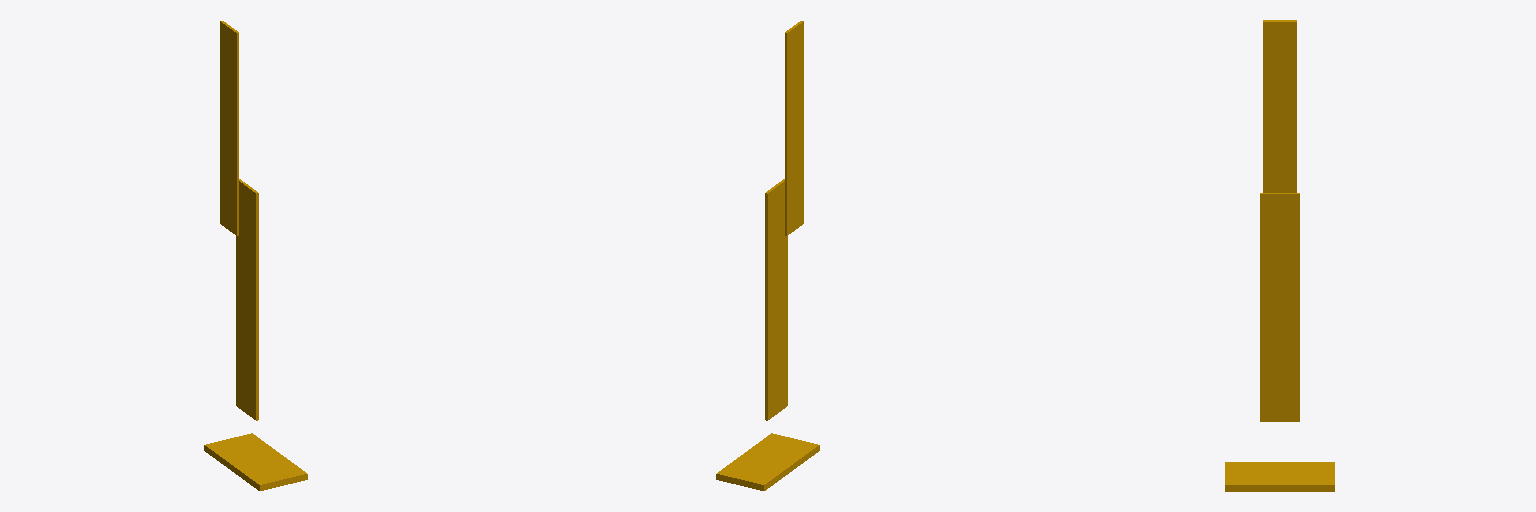
robot.urdf — 134threedof:
<?xml version="1.0"?>

<robot name="134threedof">

  <!-- ******************************************************** -->
  <!-- ******************* Kinematic Chain ******************** -->
  <!-- ******************************************************** -->
  <!-- Note the 'origin' tag in the joints defines the shift and
       reorientation, i.e. the transform.  For moving joints, this
       happens before the continuous joint rotates around 'axis'. -->

  <!-- ALL LENGTHS IN M -->

  <!-- World can't take a visual element (at least in Gazebo). -->
  <link name="world"/>

  <joint name="placement" type="fixed">
    <parent link="world"/>
    <child  link="baseplate"/>
    <origin xyz="0 0.0394 0" rpy="0 0 0"/>			<!-- WHERE IS THE BASE -->
  </joint>

  <!-- BASE PLATE: Shift across the base plate to the base motor. --> 
  <link name="baseplate">
    <visual>
      <origin xyz="0.0 0.0 0.0" rpy="0 0 1.5708"/>
      <geometry>
	<box size="0.2 0.1 0.0125"/>
      </geometry>
      <material name="wood"/>
    </visual>
  </link>

  <joint name="baseplate" type="fixed">
    <parent link="baseplate"/>
    <child  link="basemotor"/>
    <origin xyz="0 0 0.0125" rpy="0 0 -1.5708"/>
  </joint>

  <!-- BASE MOTOR: Thickness: X5 = 31.1mm, X8 = 45.1mm -->
  <link name="basemotor">
    <visual>
      <geometry>
        <mesh filename="package://basic134/meshes/X5.stl"
	      scale="0.001 0.001 0.001"/>
      </geometry>
      <material name="hebi"/>
    </visual>
  </link>

  <joint name="base" type="continuous">
    <parent link="basemotor"/>
    <child  link="lbracket"/>
    <origin xyz="0 0 0.0311" rpy="0 0 0"/>
    <axis   xyz="0 0 1"/>
  </joint>

  <!-- L BRACKET: Shift and rotate across the L bracket. -->
  <link name="lbracket">
    <!-- Add a visual element -->
  </link>

  <joint name="lbracket" type="fixed">
    <parent link="lbracket"/>
    <child  link="shouldermotor"/>
    <origin xyz="0 0.02999 0.09585" rpy="1.5708 -1.5708 0.0"/>	  <!-- L BRACKET DIMENIONS -->
  </joint>

  <!-- SHOULDER MOTOR: Thickness: X5 = 31.1mm, X8 = 45.1mm -->
  <link name="shouldermotor">
    <visual>
      <geometry>
        <mesh filename="package://basic134/meshes/X8.stl"
	      scale="0.001 0.001 0.001"/>
      </geometry>
      <material name="hebi"/>
    </visual>
  </link>

  <joint name="shoulder" type="continuous">
    <parent link="shouldermotor"/>
    <child  link="upperarm"/>
    <origin xyz="0 0 0.0451" rpy="0 0 -1.5708"/>
    <axis   xyz="0 0 1"/>
  </joint>

  <!-- UPPER ARM: Shift across the upper arm -->
  <link name="upperarm">
    <visual>
      <origin xyz="0.0 0.19 0.00285" rpy="0 0 1.5708"/>
      <geometry>
	<box size="0.454 0.074 0.00570"/>
      </geometry>
      <material name="wood"/>
    </visual>
    <!-- Add a visual element -->
  </link>

  <joint name="upperarm" type="fixed">
    <parent link="upperarm"/>
    <child  link="elbowmotor"/>
    <origin xyz="0.0 0.3748 0.0057" rpy="0 0 1.5708"/>		  <!-- UPPER ARM DIMENIONS -->
  </joint>

  <!-- Elbow motor.  Thickness: X5 = 31.1mm, X8 = 45.1mm -->
  <link name="elbowmotor">
    <visual>
      <geometry>
        <mesh filename="package://basic134/meshes/X5.stl"
	      scale="0.001 0.001 0.001"/>
      </geometry>
      <material name="hebi"/>
    </visual>
  </link>

  <joint name="elbow" type="continuous">
    <parent link="elbowmotor"/>
    <child  link="lowerarm"/>
    <origin xyz="0 0 0.0311" rpy="0 0 0.0"/>
    <axis   xyz="0 0 1"/>
  </joint>

  <!-- Shift across the upper arm -->
  <link name="lowerarm">
    <visual>
      <origin xyz="0.1655 0 0.00285" rpy="0 0 0"/>
      <geometry>
	<box size="0.405 0.06 0.00570"/>
      </geometry>
      <material name="wood"/>
    </visual>
  </link>

  <joint name="lowerarm" type="fixed">
    <parent link="lowerarm"/>
    <child  link="tip"/>
    <origin xyz="0.3685 0.0 0.00285" rpy="0 0 0"/>		  <!-- UPPER ARM DIMENIONS -->
  </joint>

  <!-- TIP FRAME -->
  <link name="tip"/>

  
  <!-- *************************************************** -->
  <!-- *************** Visual Link Elements ************** -->
  <!-- *************************************************** -->
  <!-- Note collada .dae files have better color/texture   -->
  <!-- suppport that STL files.                            -->

  <!-- Colors -->
  <material name="wood">  <color rgba="0.82 0.62 0.04 1"/>  </material>
  <material name="hebi">  <color rgba="0.82 0.06 0.06 1"/>  </material>

</robot>

--- Render facts (derived) ---
The picture shows the robot from 3 angles, left to right: view 1: azimuth 30°, elevation 25°; view 2: azimuth 150°, elevation 25°; view 3: azimuth 270°, elevation 25°; orthographic projection.
Robot: 134threedof — 9 links, 8 joints (3 continuous, 5 fixed); root link world; default pose: all joints at 0.
Links seen in each view (by area): view 1: upperarm, lowerarm, baseplate; view 2: upperarm, lowerarm, baseplate; view 3: upperarm, lowerarm, baseplate.
Link boxes in pixels (x1,y1,x2,y2): upperarm: (236, 179, 258, 420); lowerarm: (220, 21, 238, 235); baseplate: (204, 433, 307, 490); upperarm: (765, 179, 787, 420); lowerarm: (785, 21, 803, 235); baseplate: (716, 433, 819, 490); upperarm: (1260, 193, 1299, 421); lowerarm: (1263, 20, 1296, 192); baseplate: (1225, 462, 1334, 491).
Size in the robot's own frame: 0.1076 by 0.2 by 0.8885 metres.
Meshes: 2 distinct files referenced, 0 mesh visuals loaded (none loaded); not drawn: 3 (file found but could not be loaded).
